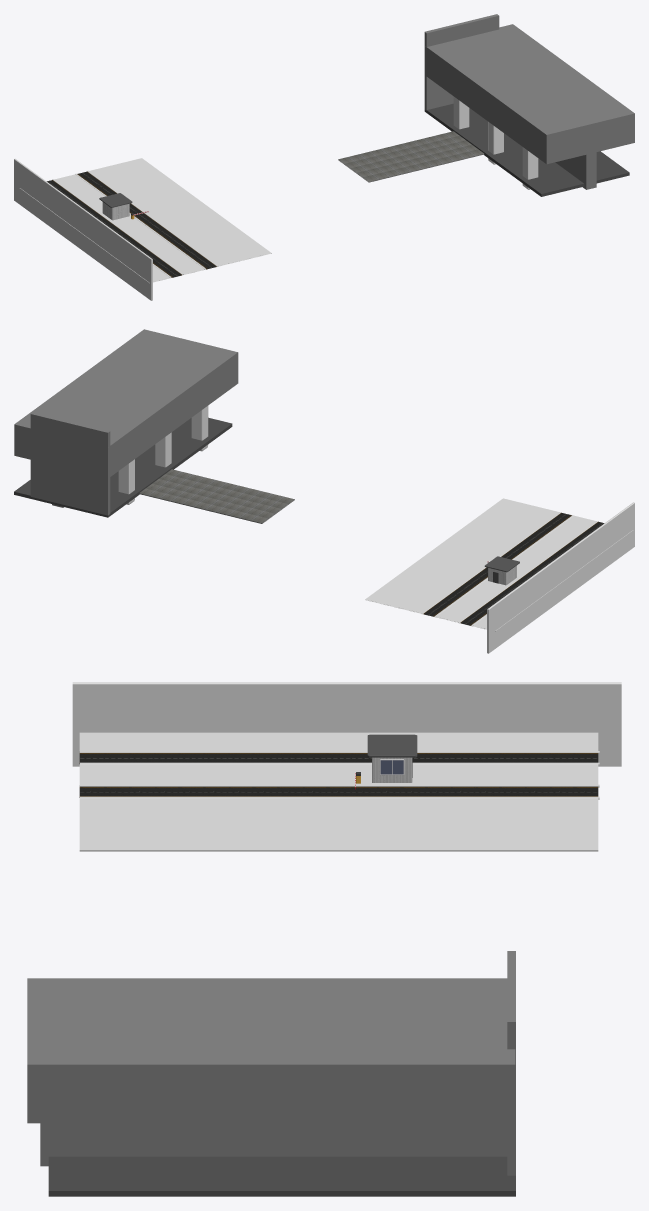
Rendered from gncxht.fbx.
The picture shows the model from 3 angles, top to bottom: view 1: azimuth 30°, elevation 25°; view 2: azimuth 150°, elevation 25°; view 3: azimuth 270°, elevation 25°; orthographic projection. The views are drawn at different scales.
Visible parts, largest first — view 1: Cube.005, Plane.008, Plane.011, Cube.004, Plane.013, Plane.002, Cube.007, Cube.006, Plane.005, Plane, Cube.008; view 2: Cube.005, Plane.008, Cube.007, Plane.011, Plane.013, Cube.004, Plane.002, Cube.006, Plane.005, Plane; view 3: Cube.005, Plane.011, Plane.008, Cube.004, Cube.008, Plane.002, Plane.001, Plane.005, Plane, Plane.007, Plane.006, Cube.007 (+4 smaller).
Boxes of the visible parts, x1,y1,x2,y2 form: Cube.005: [424, 24, 634, 164]; Plane.008: [89, 158, 271, 266]; Plane.011: [14, 158, 152, 300]; Cube.004: [424, 103, 629, 196]; Plane.013: [338, 131, 484, 182]; Plane.002: [54, 174, 204, 274]; Cube.007: [424, 14, 499, 110]; Cube.006: [453, 96, 538, 189]; Plane.005: [77, 171, 216, 269]; Plane: [47, 180, 181, 277]; Cube.008: [555, 152, 596, 189]; Cube.005: [14, 329, 238, 478]; Plane.008: [365, 498, 559, 613]; Cube.007: [30, 412, 110, 515]; Plane.011: [487, 502, 634, 653]; Plane.013: [139, 469, 294, 523]; Cube.004: [14, 417, 232, 517]; Plane.002: [436, 515, 595, 622]; Cube.006: [118, 406, 208, 504]; Plane.005: [423, 512, 571, 616]; Plane: [460, 521, 604, 625]; Cube.005: [27, 978, 515, 1123]; Plane.011: [72, 682, 621, 766]; Plane.008: [79, 798, 598, 851]; Cube.004: [48, 1156, 515, 1196]; Cube.008: [40, 1123, 507, 1166]; Plane.002: [79, 764, 598, 786]; Plane.001: [79, 732, 598, 752]; Plane.005: [79, 786, 598, 797]; Plane: [79, 753, 598, 763]; Plane.007: [80, 796, 599, 799]; Plane.006: [80, 784, 599, 787]; Cube.007: [507, 951, 515, 1175].
Bounding box in the file's own units: 8846 × 1686 × 4817.
22 materials, 4 textured.
